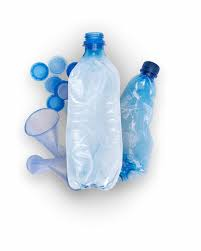available: (62, 29, 124, 194), (113, 56, 160, 190)
